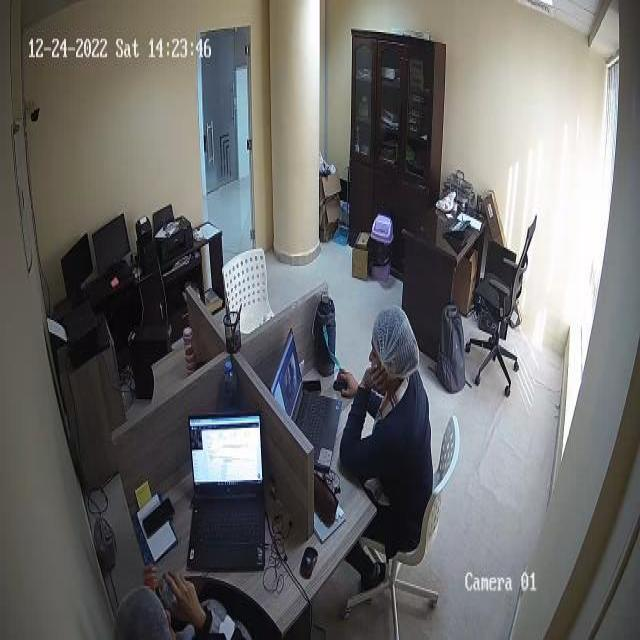bare_hand: (365, 371, 395, 413), (338, 364, 363, 406)
